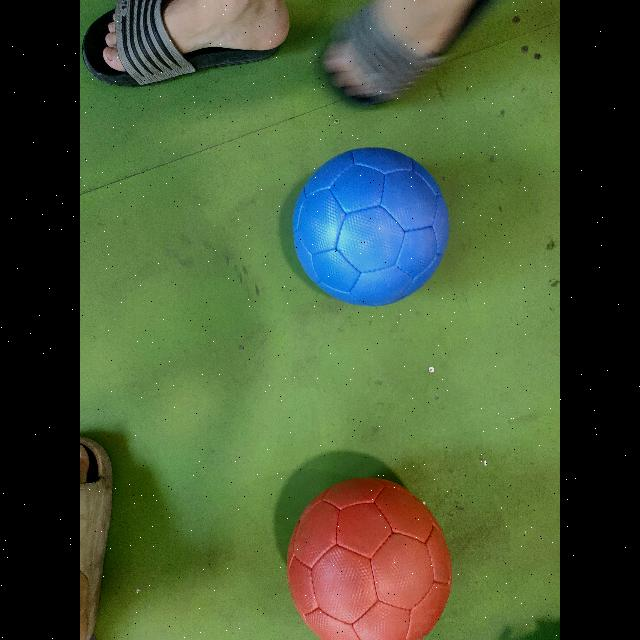B: (293, 147, 449, 306)
R: (287, 478, 452, 640)
